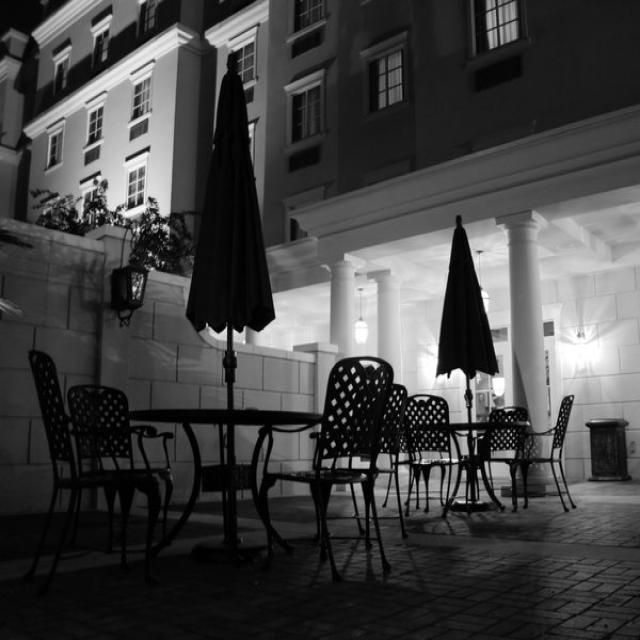Table: (132, 381, 330, 598), (395, 401, 542, 535), (576, 407, 640, 509)
chair: (14, 331, 177, 582), (257, 333, 412, 576), (65, 379, 190, 555), (508, 372, 590, 511), (403, 368, 470, 512), (464, 391, 542, 501)
